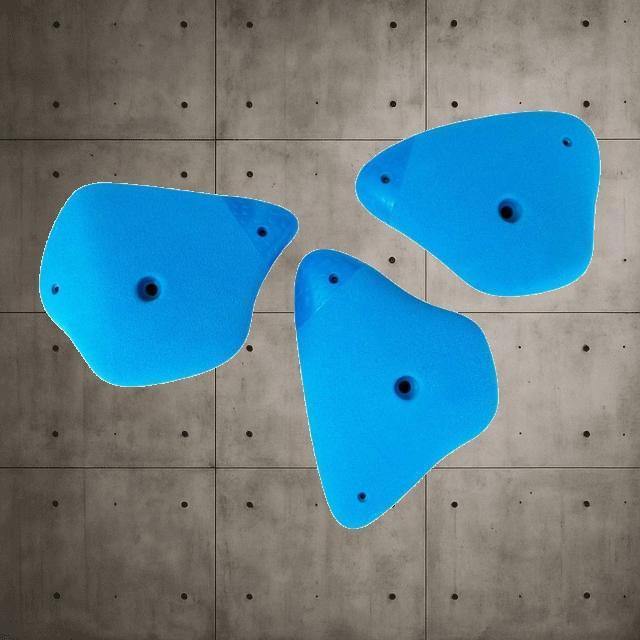Jug: (292, 247, 500, 528), (38, 181, 298, 387), (355, 109, 601, 297)
